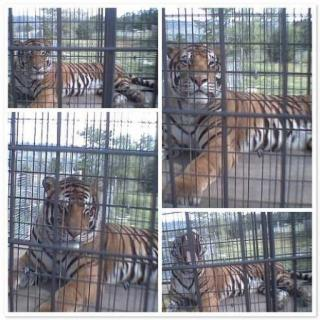Tiger: (166, 37, 314, 205), (13, 170, 157, 307), (165, 228, 309, 311), (9, 34, 154, 106)
